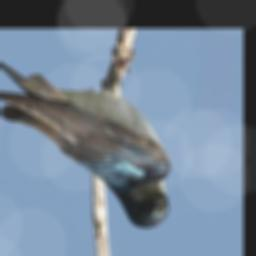Swallow: (0, 44, 172, 228)
